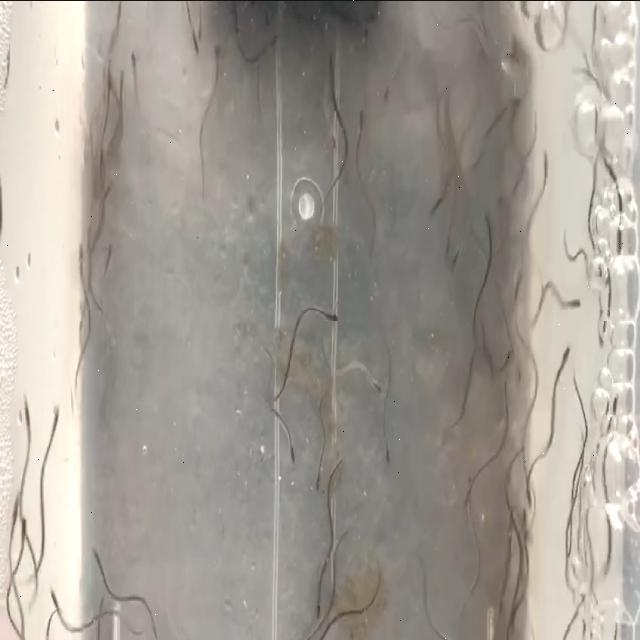active_glass_eel: (426, 186, 448, 222), (538, 130, 554, 176), (458, 478, 476, 518), (322, 304, 343, 337), (84, 538, 104, 572), (284, 427, 300, 468), (554, 346, 575, 376), (367, 372, 391, 398), (48, 402, 62, 441), (512, 358, 528, 392), (10, 480, 20, 532), (324, 44, 338, 80), (263, 30, 283, 54), (313, 591, 328, 623), (48, 578, 64, 607), (382, 62, 396, 94), (20, 390, 32, 426), (209, 36, 224, 64), (568, 293, 582, 323), (482, 201, 496, 231), (496, 374, 508, 409), (102, 170, 114, 204), (310, 472, 324, 499), (382, 441, 397, 466), (356, 95, 368, 125), (128, 40, 138, 74), (113, 0, 127, 24), (451, 242, 463, 268), (20, 513, 30, 544), (76, 238, 86, 268), (190, 32, 202, 56), (504, 344, 516, 368), (527, 480, 535, 510), (105, 238, 116, 255), (520, 506, 528, 528), (119, 60, 124, 82)
